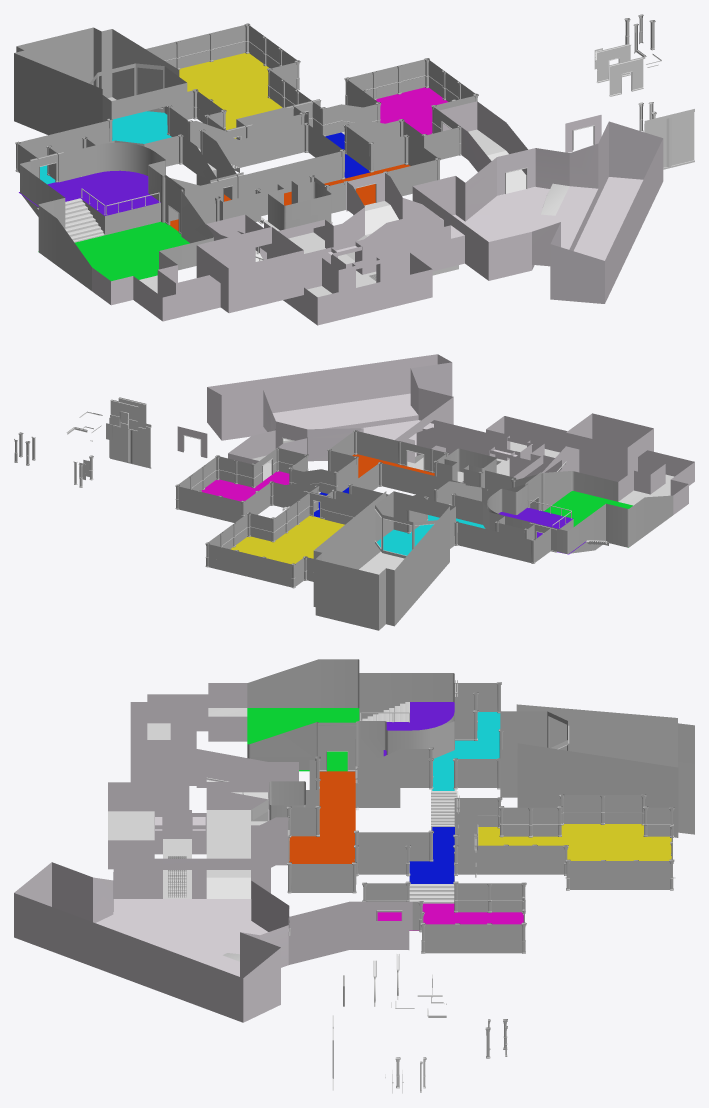
Rendered from Map_Kevlar.fbx.
The picture shows the model from 3 angles, top to bottom: view 1: azimuth 30°, elevation 25°; view 2: azimuth 150°, elevation 25°; view 3: azimuth 270°, elevation 25°; orthographic projection. The views are drawn at different scales.
Parts seen in each view (by area): view 1: Roof-Maintenance.003, Server rooms .007, Floor_Maintenance.011, Roof-Maintenance.004, Floor_Maintenance.008, Floor_Maintenance.001, Server rooms .118, Server rooms .130, Server rooms .124, Server rooms .005, Server rooms .065, Server rooms .011 (+56 smaller); view 2: Roof-Maintenance.003, Server rooms .007, Floor_Maintenance.008, Roof-Maintenance.004, Floor_Maintenance.011, Floor_Maintenance.001, Server rooms .118, Floor_Maintenance.010, Server rooms .121, Server rooms .065, Cube.002, Server rooms .005 (+38 smaller); view 3: Roof-Maintenance.003, Server rooms .007, Roof-Maintenance.004, Floor_Maintenance.008, Server rooms .005, Floor_Maintenance.011, Server rooms .118, Server rooms .123, Floor_Maintenance.007, Server rooms .121, Server rooms .130, Floor_Maintenance.001 (+41 smaller).
Boxes of the visible parts, <box> form: Roof-Maintenance.003: <box>412,121,663,303</box>; Server rooms .007: <box>14,27,179,135</box>; Floor_Maintenance.011: <box>283,225,464,325</box>; Roof-Maintenance.004: <box>440,177,643,260</box>; Floor_Maintenance.008: <box>196,227,303,313</box>; Floor_Maintenance.001: <box>92,251,220,321</box>; Server rooms .118: <box>179,53,281,138</box>; Server rooms .130: <box>38,221,189,281</box>; Server rooms .124: <box>19,170,160,215</box>; Server rooms .005: <box>439,101,527,174</box>; Server rooms .065: <box>102,66,187,121</box>; Server rooms .011: <box>58,142,165,190</box>; Roof-Maintenance.003: <box>207,354,453,461</box>; Server rooms .007: <box>313,491,449,630</box>; Floor_Maintenance.008: <box>542,413,653,481</box>; Roof-Maintenance.004: <box>272,393,433,456</box>; Floor_Maintenance.011: <box>422,416,567,461</box>; Floor_Maintenance.001: <box>618,450,694,514</box>; Server rooms .118: <box>230,515,344,563</box>; Floor_Maintenance.010: <box>416,427,561,477</box>; Server rooms .121: <box>606,495,673,537</box>; Server rooms .065: <box>375,491,455,539</box>; Cube.002: <box>109,415,151,468</box>; Server rooms .005: <box>228,430,306,463</box>; Roof-Maintenance.003: <box>14,858,289,1022</box>; Server rooms .007: <box>516,704,694,837</box>; Roof-Maintenance.004: <box>95,899,268,976</box>; Floor_Maintenance.008: <box>130,702,267,787</box>; Server rooms .005: <box>288,901,412,964</box>; Floor_Maintenance.011: <box>108,782,206,869</box>; Server rooms .118: <box>478,824,671,860</box>; Server rooms .123: <box>289,771,355,863</box>; Floor_Maintenance.007: <box>206,810,267,898</box>; Server rooms .121: <box>247,659,359,695</box>; Server rooms .130: <box>247,708,359,771</box>; Floor_Maintenance.001: <box>147,683,247,741</box>.
Bounding box in the file's own units: 8690 × 1593 × 7310.
